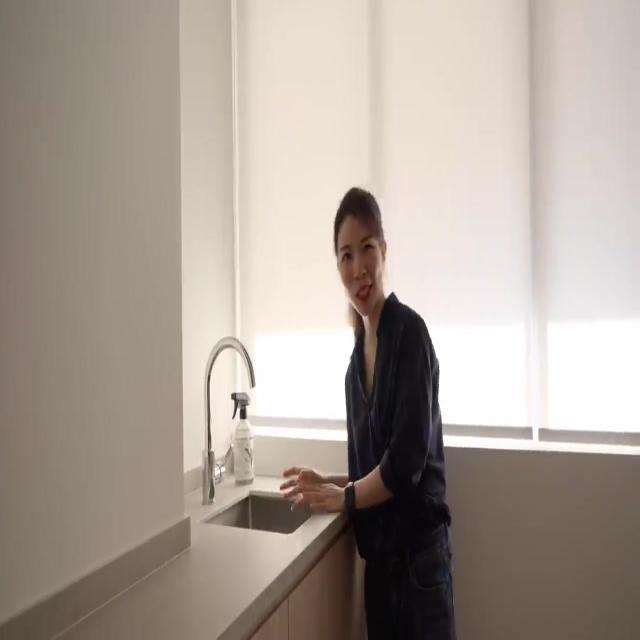person: (279, 186, 457, 639)
